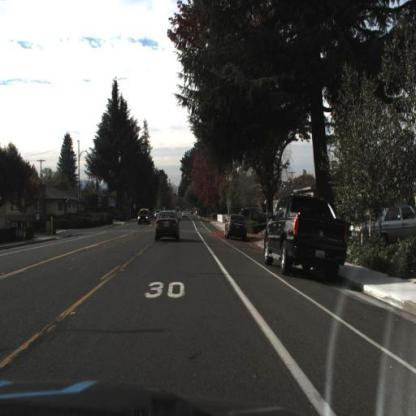car: (263, 189, 358, 275), (347, 202, 416, 259), (153, 211, 182, 242), (226, 211, 251, 244), (137, 205, 153, 230)
